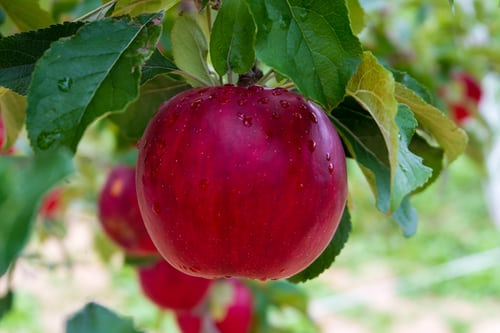apple: (130, 83, 354, 281), (100, 163, 160, 264)
